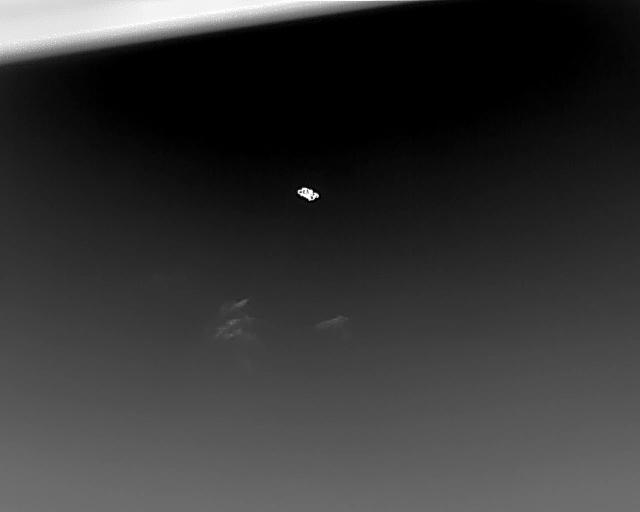fpv-drone: (297, 187, 319, 201)
